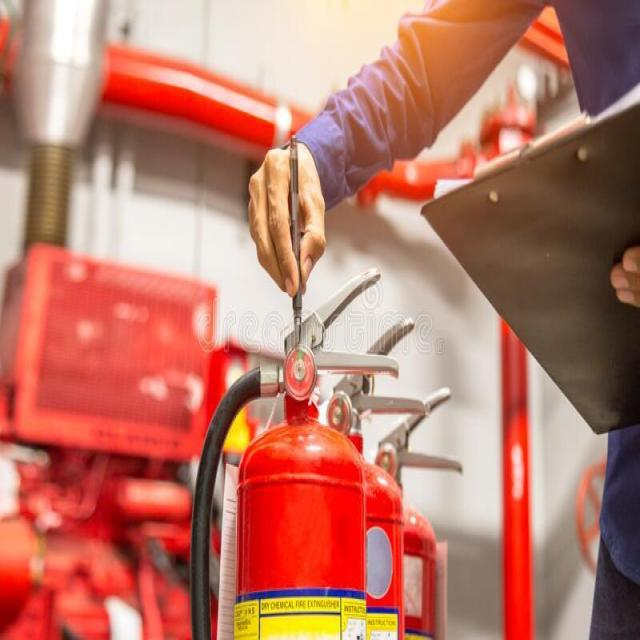fire_extinguisher: (184, 266, 402, 639), (297, 311, 431, 639), (345, 384, 468, 638)
